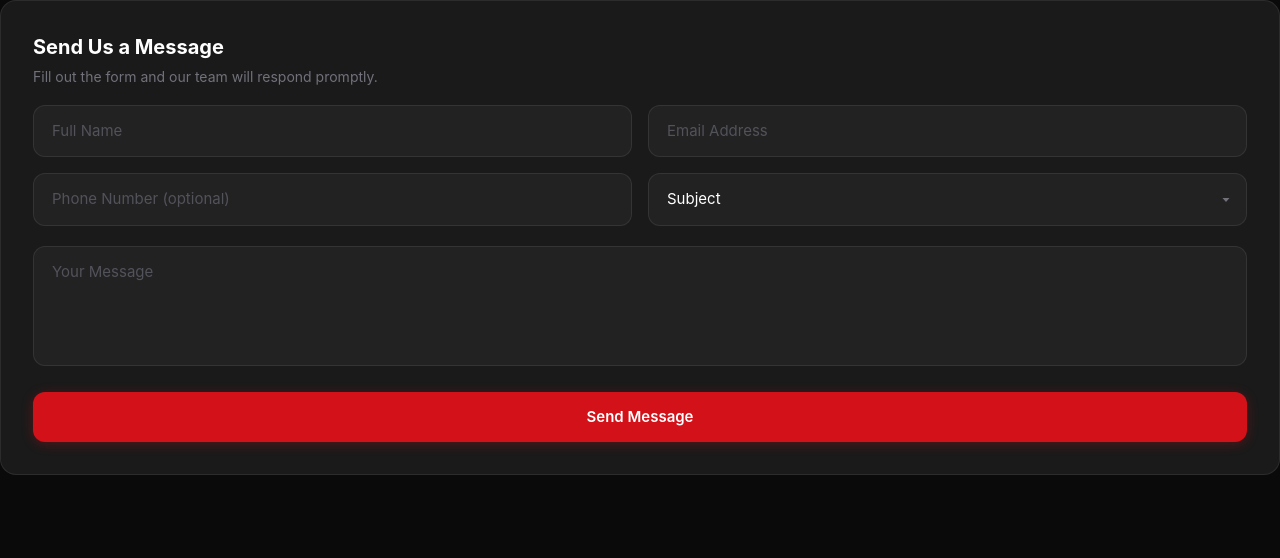
contact form › shows an error and keeps the form when the request fails
Type "Sam Lee" into the field labelled "Full Name" at (332, 131), box [33,105,632,157]
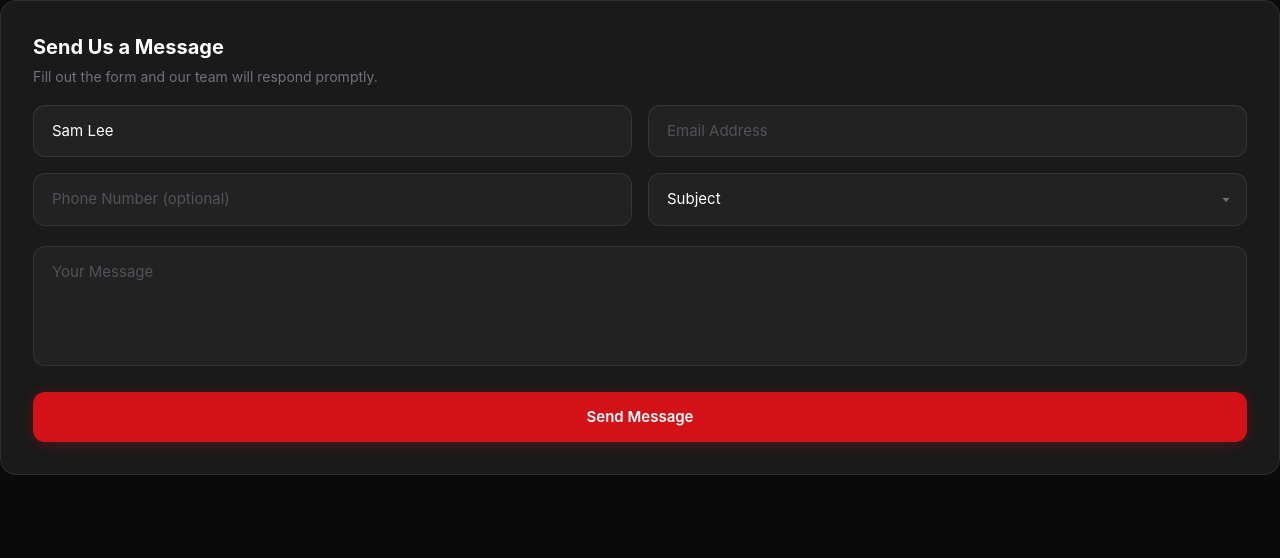
Type "sam@example.com" into the field labelled "Email Address" at (948, 131), box [648,105,1247,157]
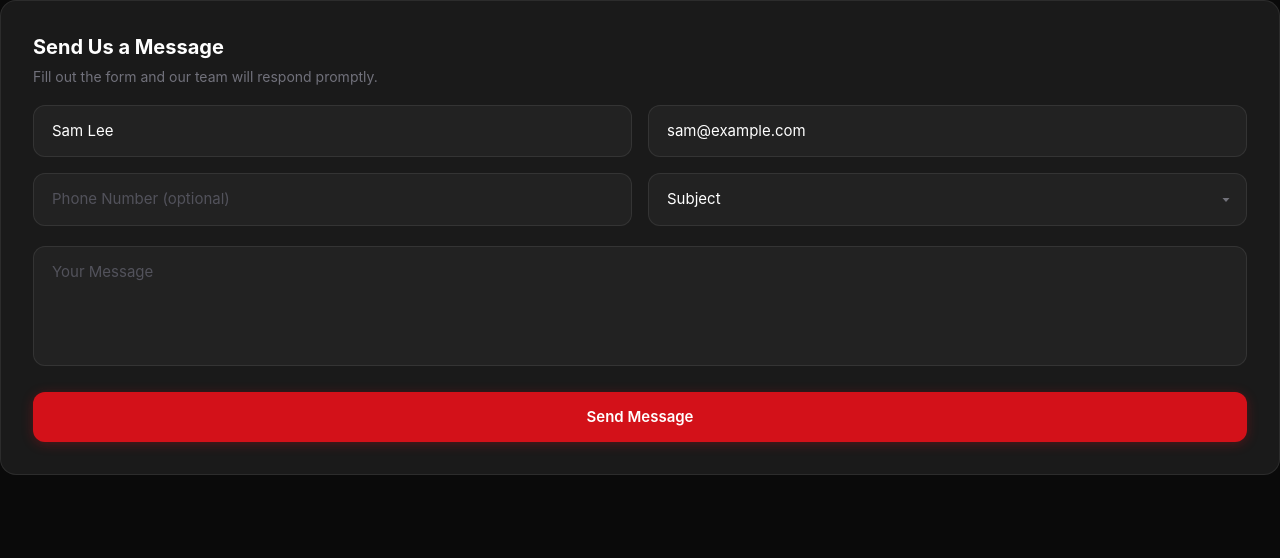
Type "Hi" into the text box labelled "Your Message" at (640, 306), box [33,246,1247,366]
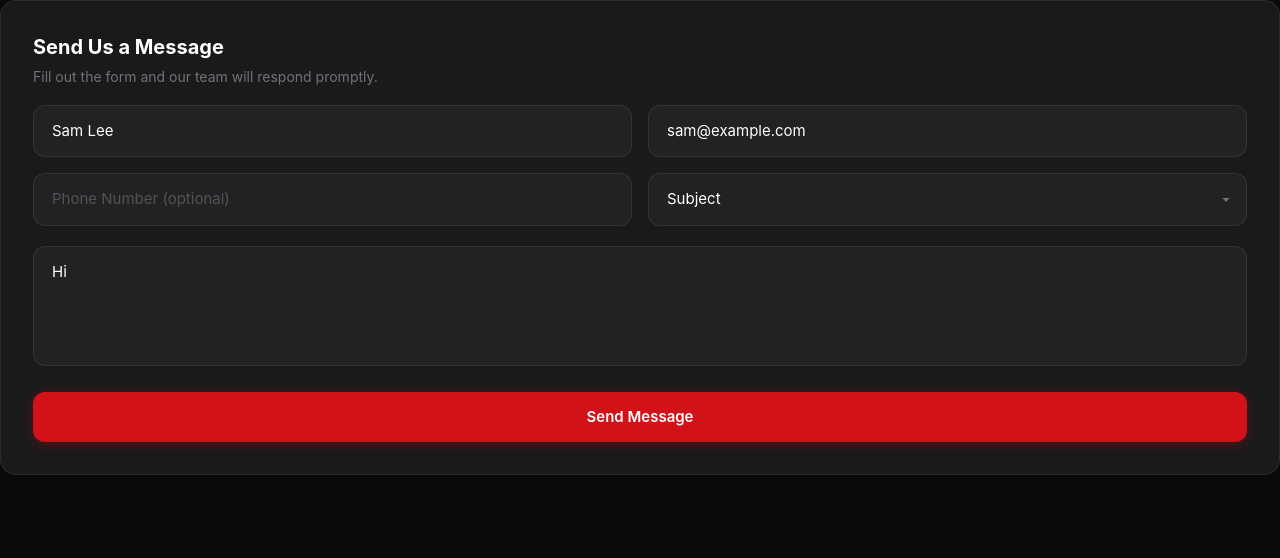
Click the button "Send Message" at (640, 417), box [33,392,1247,442]
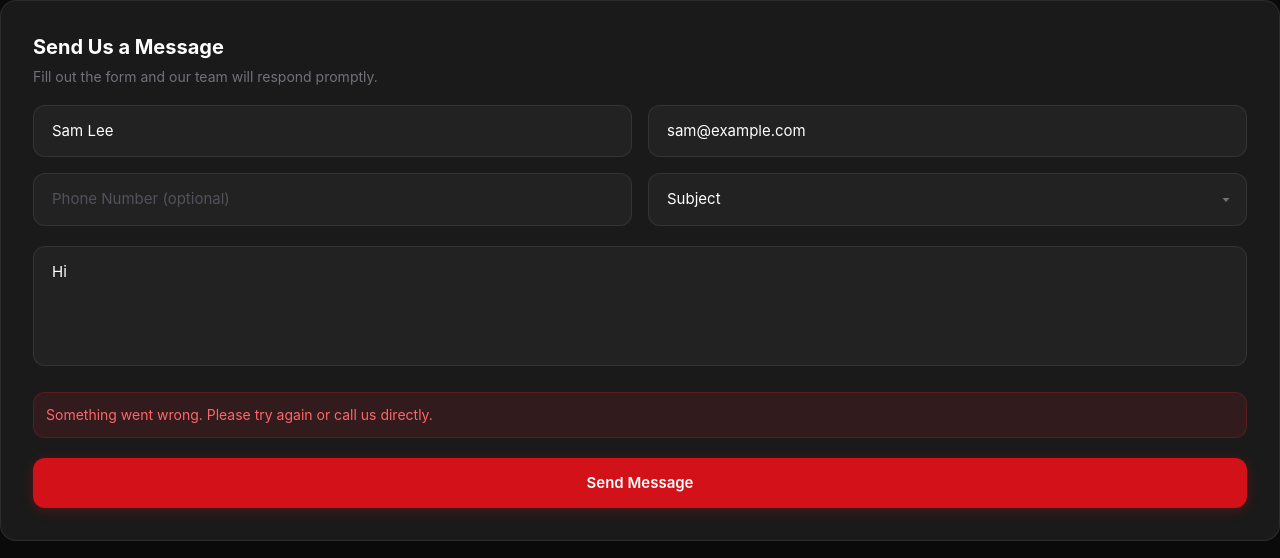
Expected: the message shows "Something went wrong", [46,406,433,423]
